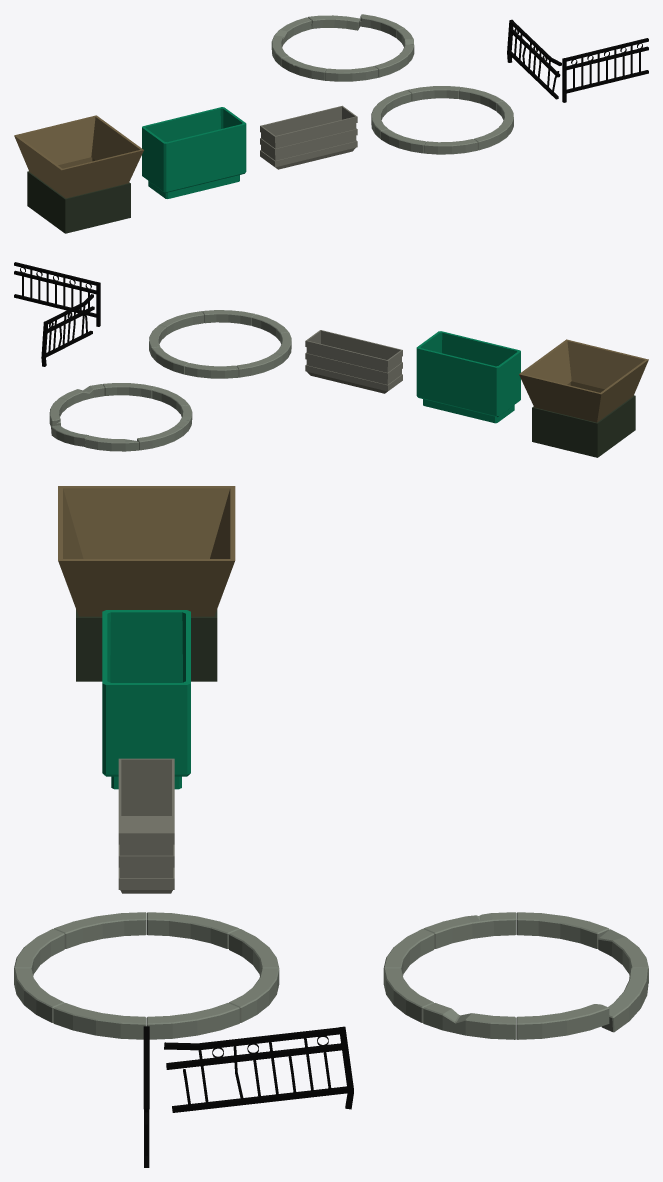
The model's file is flowerbeds.fbx.
The picture shows the model from 3 angles, top to bottom: view 1: azimuth 30°, elevation 25°; view 2: azimuth 150°, elevation 25°; view 3: azimuth 270°, elevation 25°; orthographic projection. The views are drawn at different scales.
Visible parts, largest first — view 1: flowerbed, flowerbed_2, flowerbed_3, flowerbed_7, flowerbed_4, flowerbed_5, flowerbed_6; view 2: flowerbed, flowerbed_2, flowerbed_3, flowerbed_4, flowerbed_7, flowerbed_5, flowerbed_6; view 3: flowerbed, flowerbed_2, flowerbed_7, flowerbed_4, flowerbed_3, flowerbed_6.
Part boxes in pixels (x1,y1,x2,y2): flowerbed: (14, 115, 143, 233); flowerbed_2: (142, 107, 246, 198); flowerbed_3: (260, 105, 357, 169); flowerbed_7: (271, 14, 414, 81); flowerbed_4: (371, 86, 513, 154); flowerbed_5: (562, 38, 648, 102); flowerbed_6: (507, 19, 561, 99); flowerbed: (519, 339, 648, 457); flowerbed_2: (416, 331, 520, 423); flowerbed_3: (305, 330, 402, 393); flowerbed_4: (149, 310, 291, 378); flowerbed_7: (49, 383, 192, 451); flowerbed_5: (14, 262, 100, 326); flowerbed_6: (41, 294, 94, 366); flowerbed: (58, 486, 235, 681); flowerbed_2: (102, 610, 190, 789); flowerbed_7: (383, 912, 648, 1039); flowerbed_4: (14, 912, 279, 1039); flowerbed_3: (118, 758, 174, 893); flowerbed_6: (164, 1026, 353, 1112).
Bounding box in the file's own units: 7.4 × 0.9261 × 3.59.
